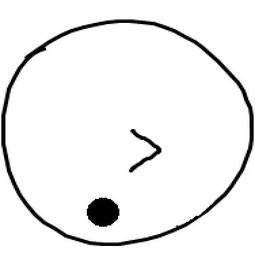open_mouth: (83, 190, 125, 235)
pointy_nose: (121, 121, 167, 178)
